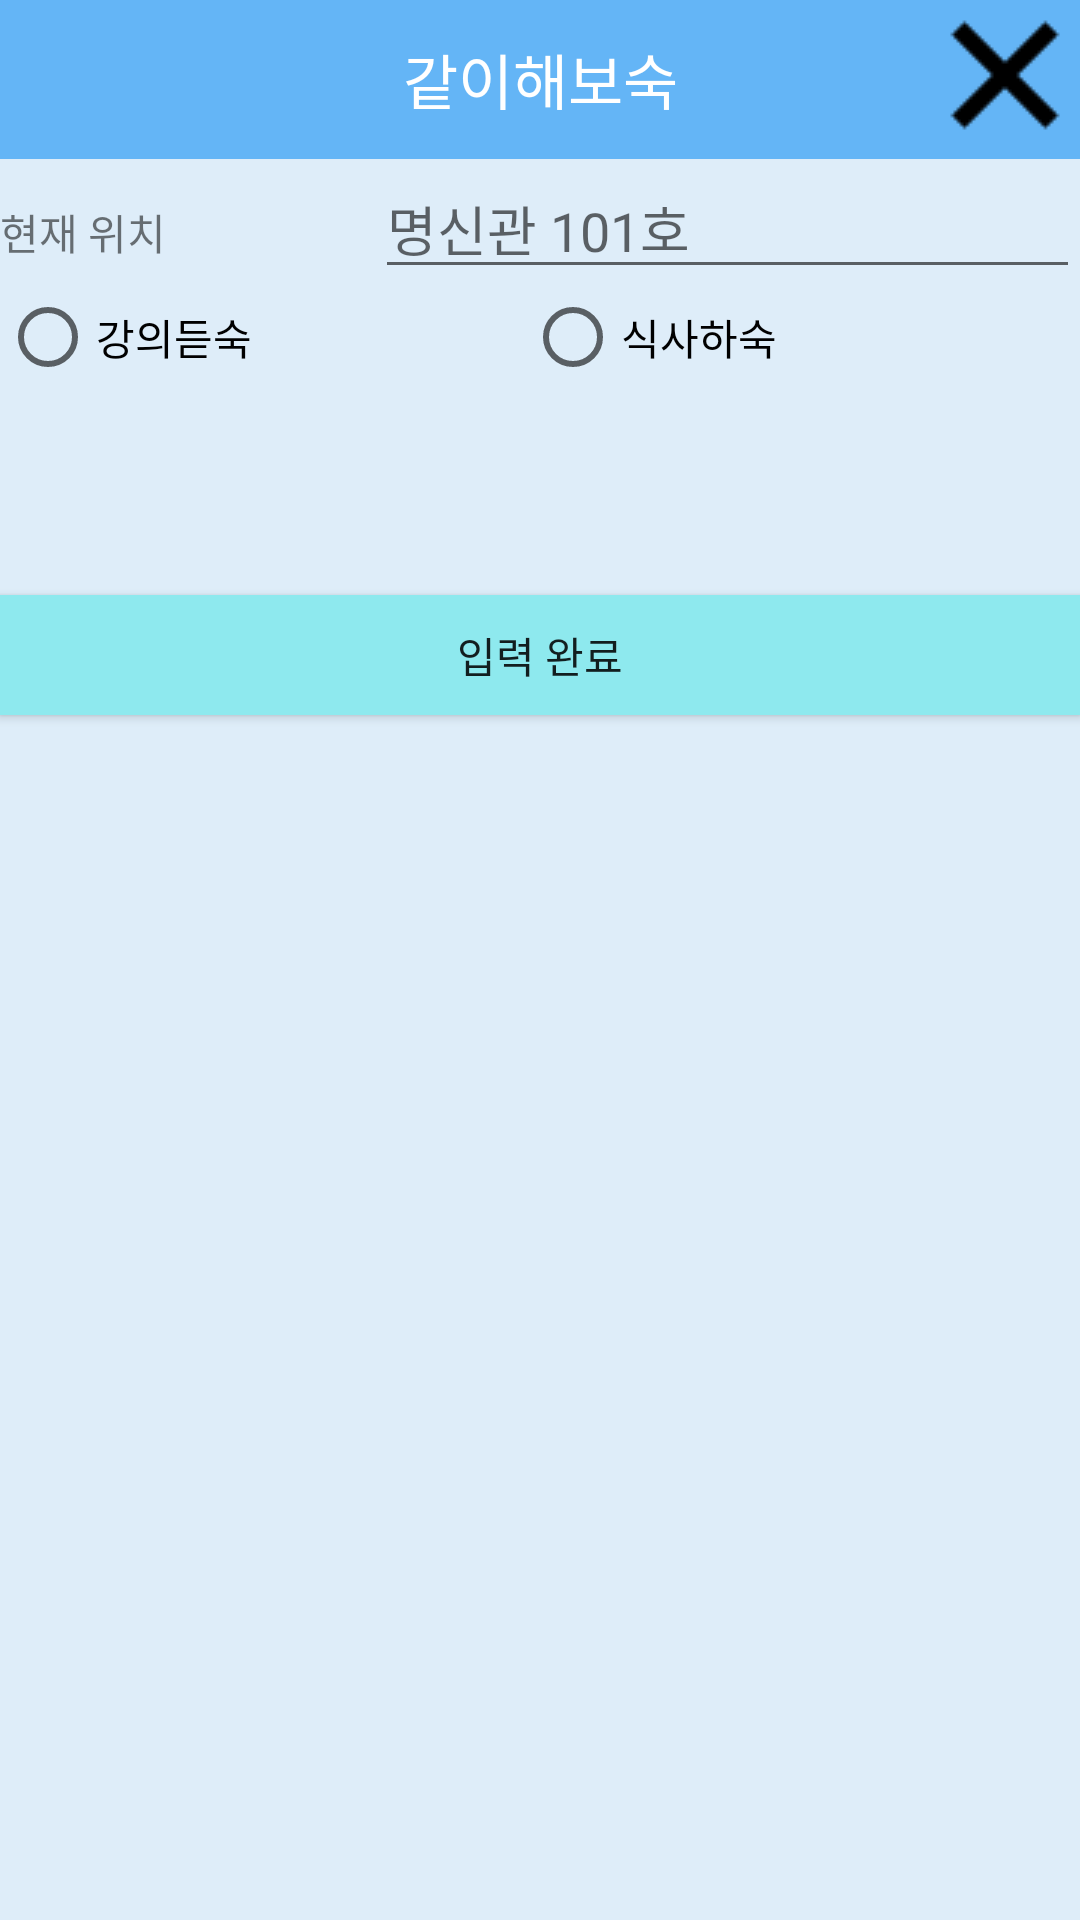

Icons on this 1080px×1920px Android screen, each with its box as bbox(x1, y1, x2, y2):
close clear cancel: bbox(950, 20, 1060, 130)
